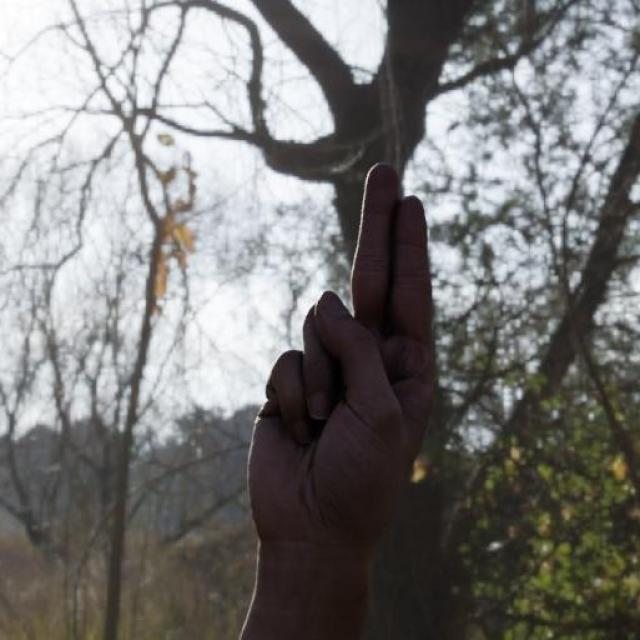U: (243, 154, 448, 546)
